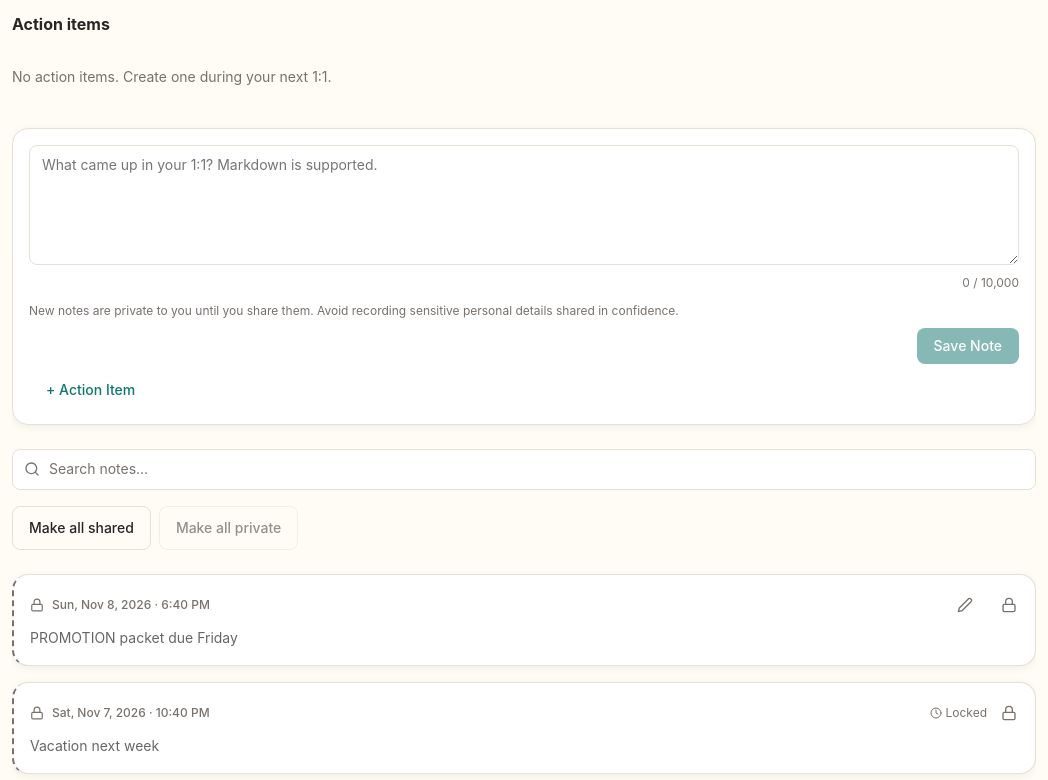
Scenario: NotesSection › search › search announces result count via aria-live
Type "promotion" into the search field labelled "Search notes" at x=524, y=469, box [12, 449, 1036, 490]
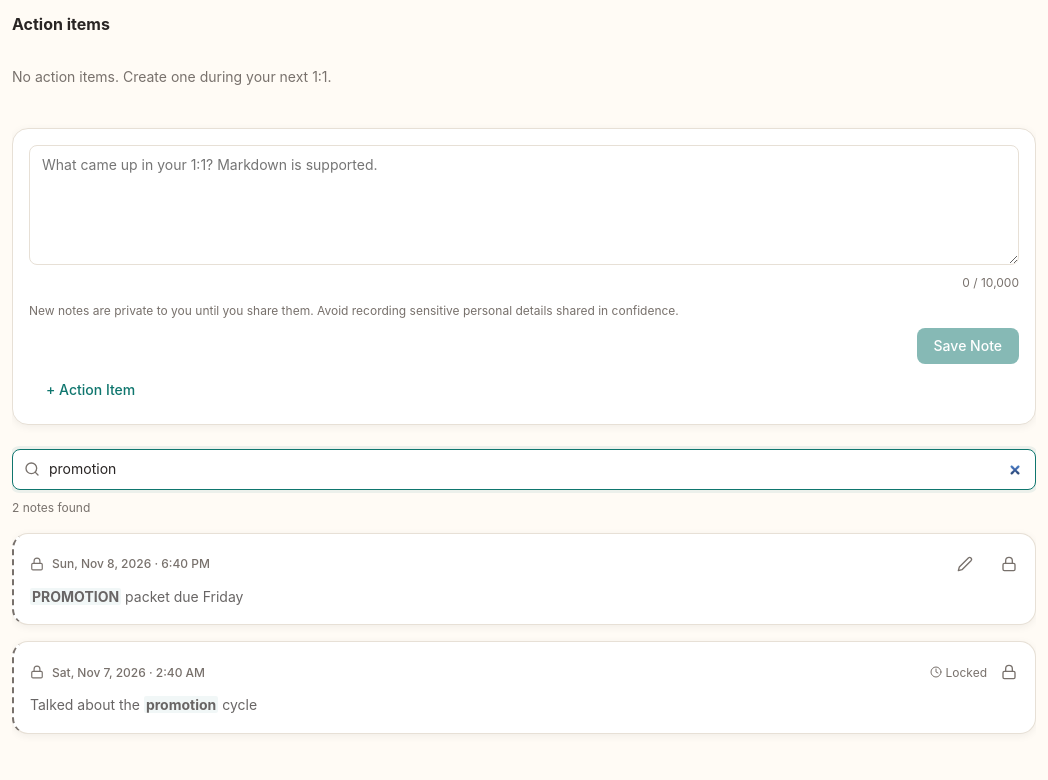
Replace the text in the search field named "Search notes" with "vacation" at x=524, y=469, box [12, 449, 1036, 490]
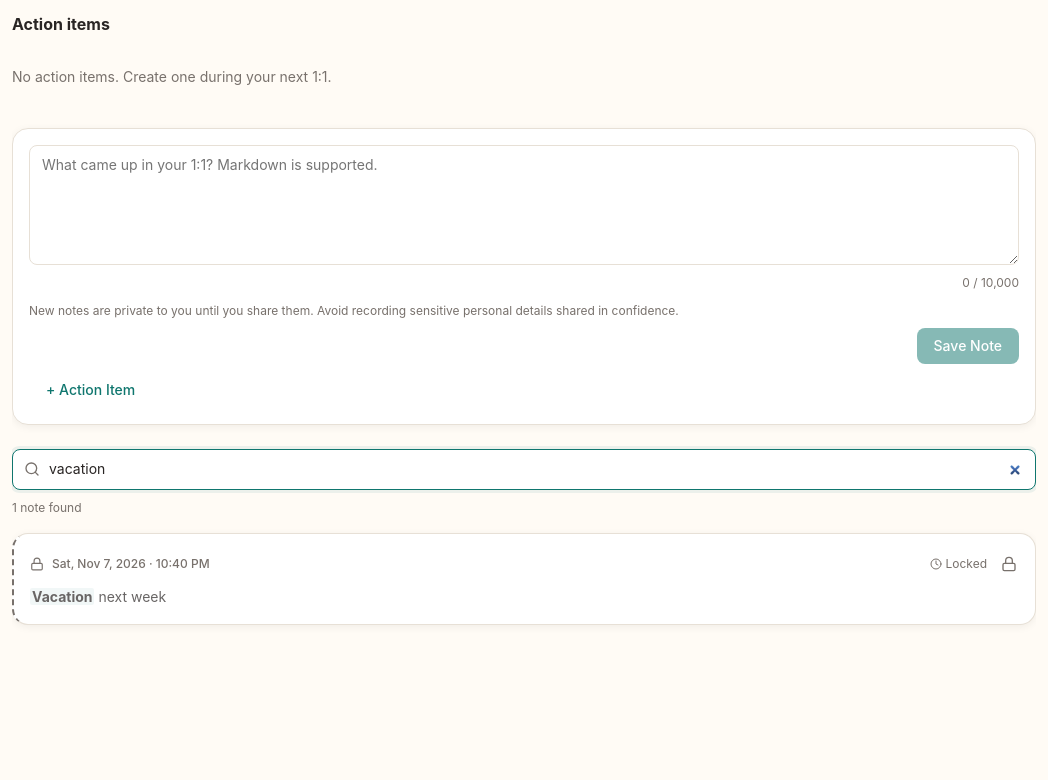
Check: the text "2 notes found" reads "1 note found", box [12, 500, 82, 515]
